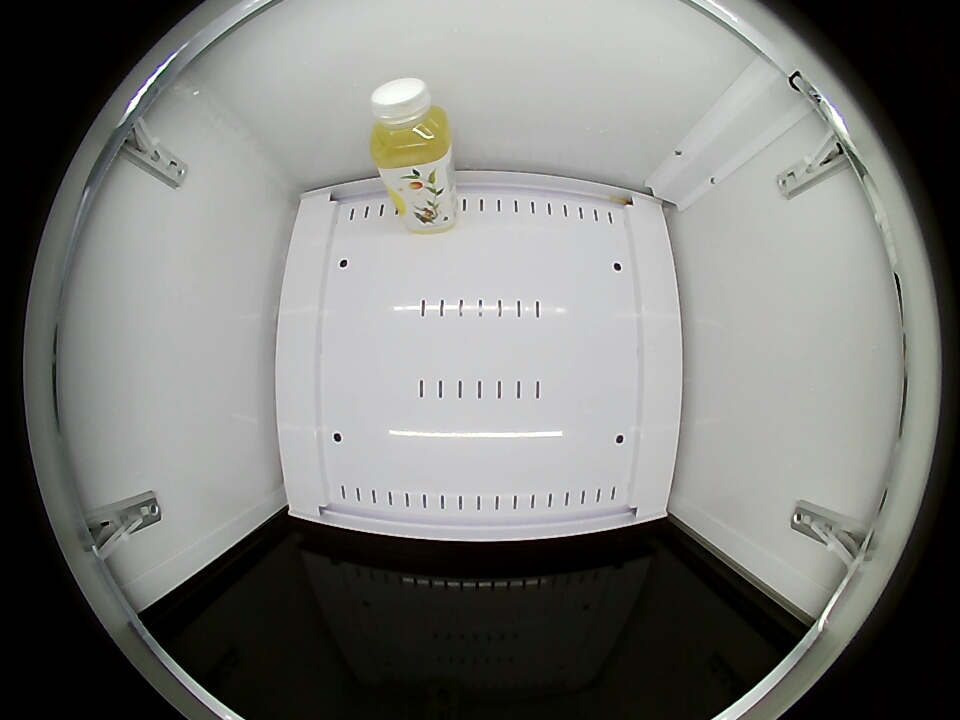chapai2: (369, 78, 452, 172)
